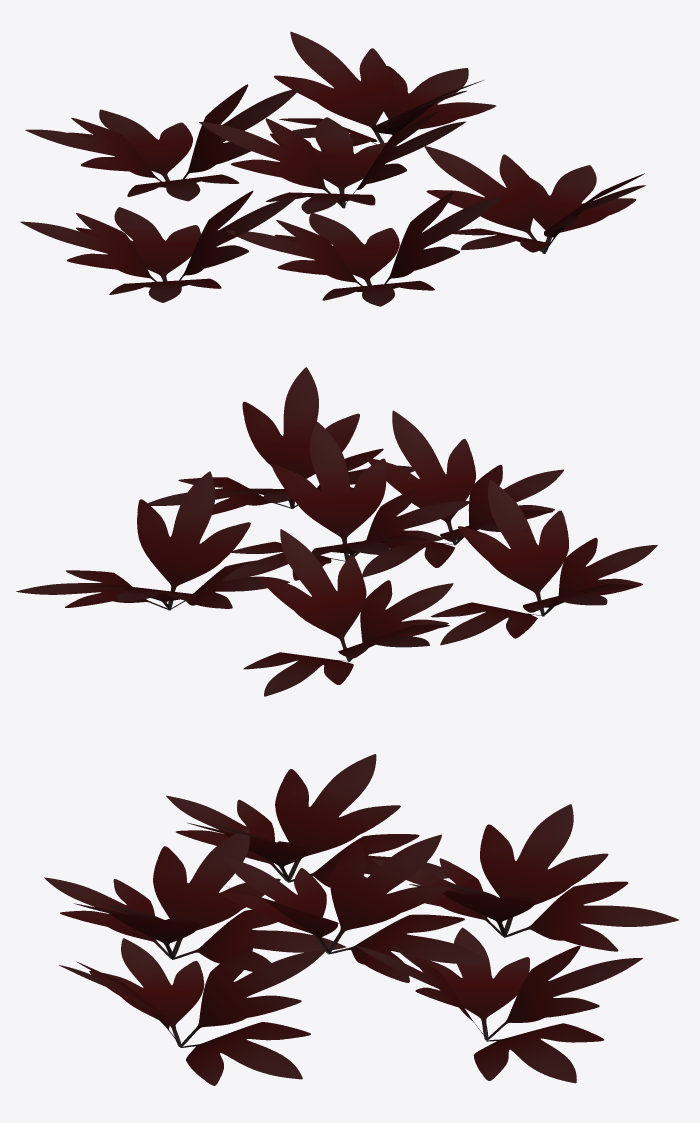
The model's file is 6_Weed.fbx.
3 views of the same model, one above another, from view 1: azimuth 30°, elevation 25°; view 2: azimuth 150°, elevation 25°; view 3: azimuth 270°, elevation 25° (orthographic). The views are drawn at different scales.
Parts seen in each view (by area): view 1: 6_Weed.002; view 2: 6_Weed.002; view 3: 6_Weed.002.
Boxes of the visible parts, x1,y1,x2,y2 form: 6_Weed.002: [20, 32, 645, 306]; 6_Weed.002: [16, 367, 657, 696]; 6_Weed.002: [44, 754, 678, 1085].
Size of the model in its own units: 156 by 33.28 by 141.
